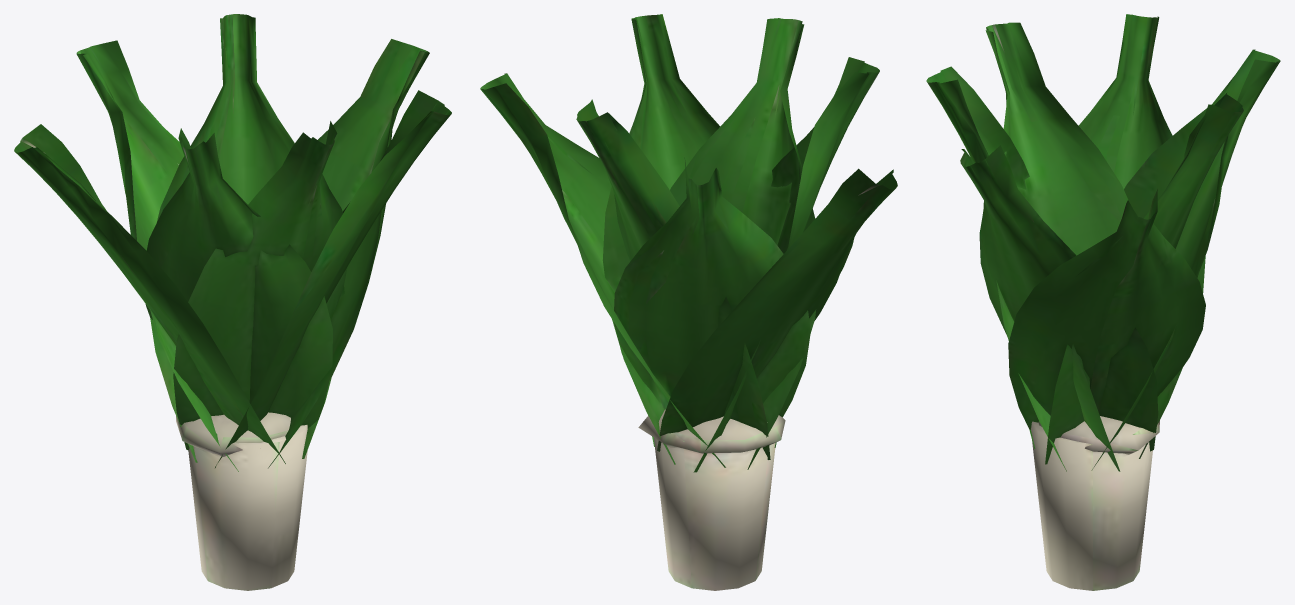
File: crop_horseradish.glb
3 views of the same model, side by side, from view 1: azimuth 30°, elevation 25°; view 2: azimuth 150°, elevation 25°; view 3: azimuth 270°, elevation 25° (orthographic).
Visible parts, largest first — view 1: crop_horseradish, fruit; view 2: crop_horseradish, fruit; view 3: crop_horseradish, fruit.
Part boxes in pixels (x1,y1,x2,y2): crop_horseradish: [14, 14, 451, 471]; fruit: [176, 412, 307, 590]; crop_horseradish: [480, 14, 897, 472]; fruit: [638, 409, 785, 590]; crop_horseradish: [926, 14, 1280, 471]; fruit: [1031, 416, 1159, 590].
Bounding box in the file's own units: 0.2263 × 0.2601 × 0.1674.
1 material, 1 textured.
